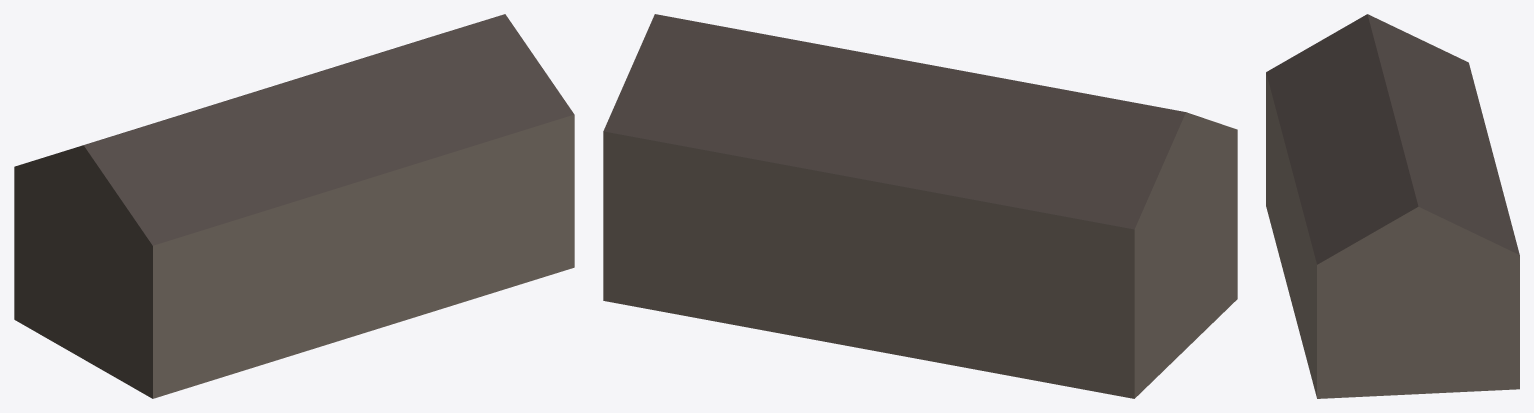
3 renders of one model, left to right at view 1: azimuth 30°, elevation 25°; view 2: azimuth 150°, elevation 25°; view 3: azimuth 270°, elevation 25°, orthographic. The views are drawn at different scales.
Visible parts, largest first — view 1: HP-w859467767; view 2: HP-w859467767; view 3: HP-w859467767.
Part boxes in pixels (<box>): HP-w859467767: <box>14,14,574,398</box>; HP-w859467767: <box>603,14,1237,398</box>; HP-w859467767: <box>1266,14,1519,398</box>.
Size of the model in its own units: 29.12 by 12.58 by 15.43.
